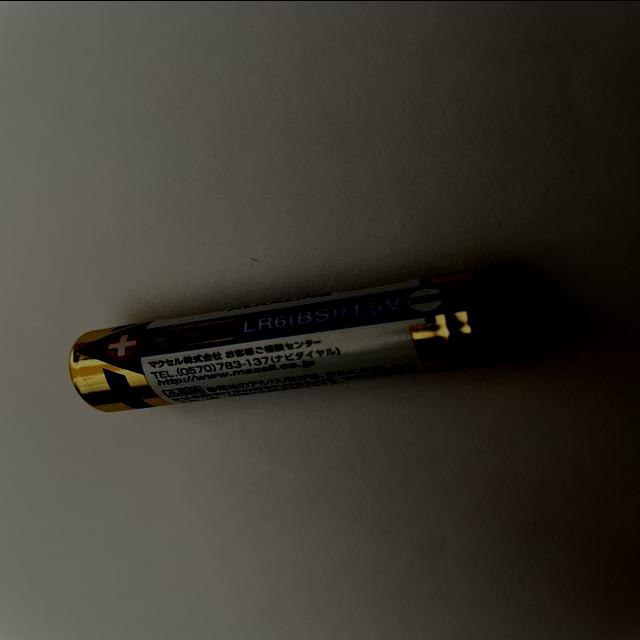AAA: (62, 269, 506, 414)
